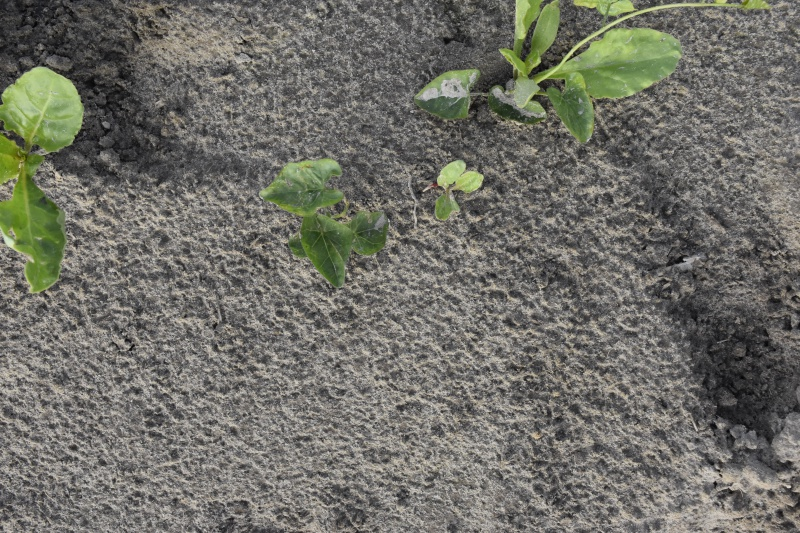field bindweed: (414, 1, 774, 145), (256, 158, 396, 297)
sugar beet: (1, 66, 98, 295), (429, 163, 488, 225)
